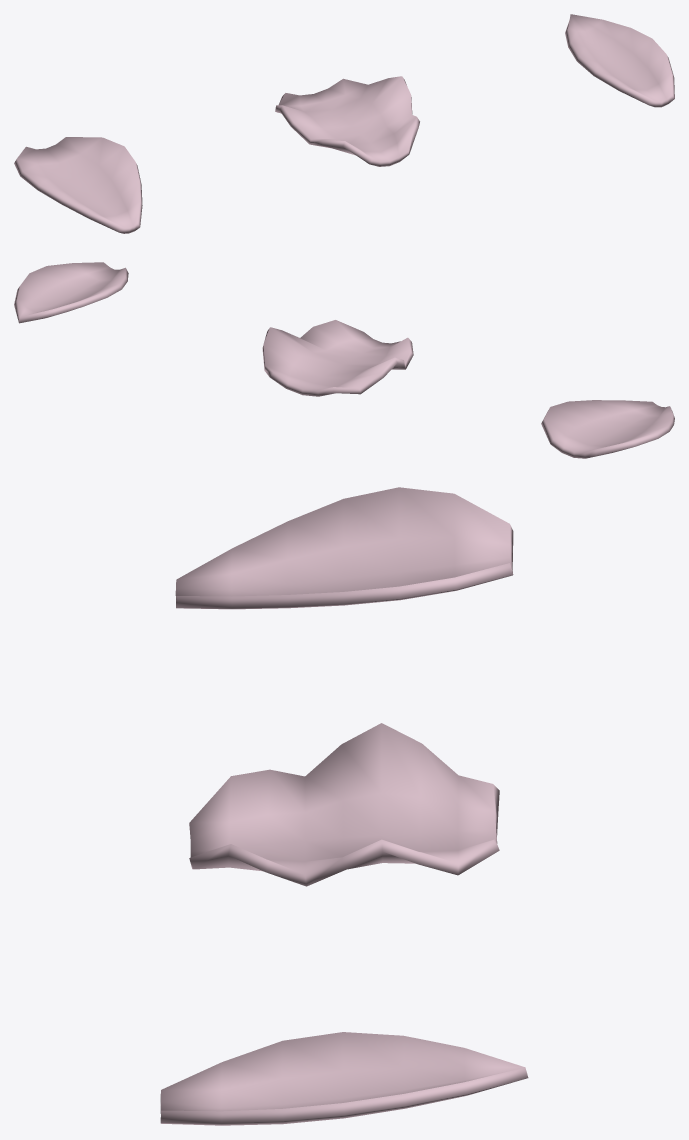
File: petals.fbx
3 views of the same model, one above another, from view 1: azimuth 30°, elevation 25°; view 2: azimuth 150°, elevation 25°; view 3: azimuth 270°, elevation 25° (orthographic). The views are drawn at different scales.
Parts seen in each view (by area): view 1: Petal_B, Petal_A, Petal_C; view 2: Petal_B, Petal_A, Petal_C; view 3: Petal_B, Petal_A, Petal_C.
Boxes of the visible parts, x1=… form: Petal_B: x1=275, y1=76, x2=419, y2=166; Petal_A: x1=14, y1=137, x2=142, y2=233; Petal_C: x1=565, y1=14, x2=674, y2=107; Petal_B: x1=262, y1=320, x2=413, y2=396; Petal_A: x1=541, y1=400, x2=674, y2=458; Petal_C: x1=14, y1=262, x2=128, y2=323; Petal_B: x1=189, y1=723, x2=499, y2=886; Petal_A: x1=175, y1=487, x2=513, y2=609; Petal_C: x1=160, y1=1032, x2=528, y2=1125.
Bounding box in the file's own units: 2.35 × 0.1473 × 0.6029.
